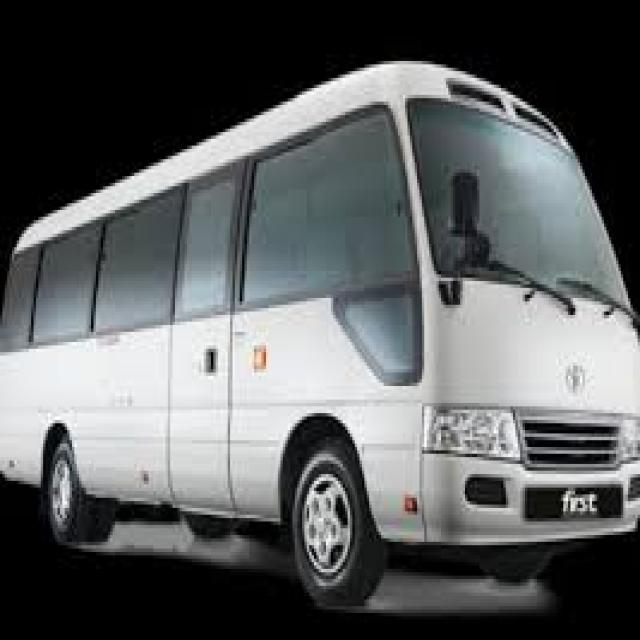bus: (0, 31, 640, 628)
